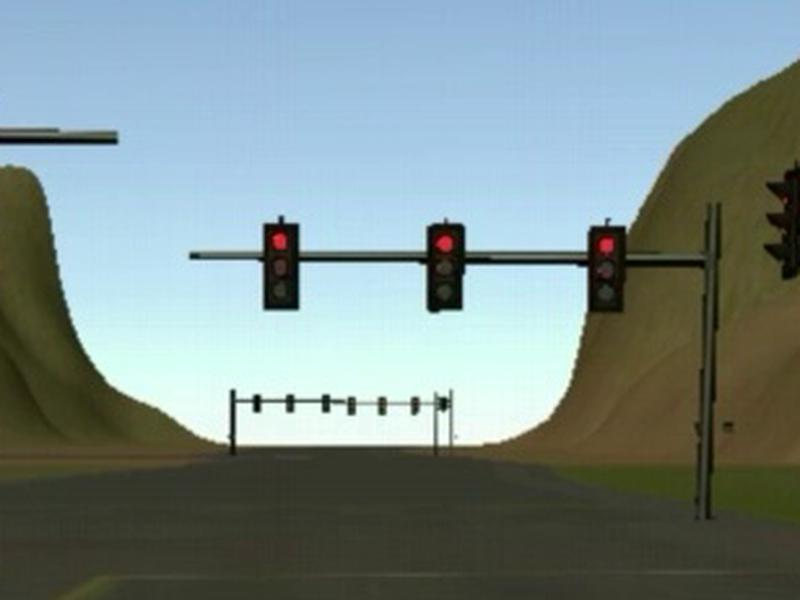Red: (427, 224, 464, 311), (265, 222, 300, 310), (590, 225, 625, 310)
